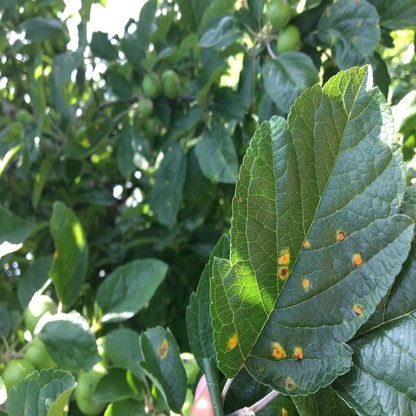rust: (279, 248, 288, 282), (272, 340, 285, 358), (158, 340, 167, 360), (285, 375, 295, 392), (353, 301, 362, 316), (229, 333, 237, 349), (294, 347, 303, 360), (353, 254, 363, 265), (280, 404, 286, 416), (337, 231, 344, 240), (302, 279, 308, 288), (304, 240, 309, 247), (53, 250, 58, 257), (238, 197, 242, 203)
